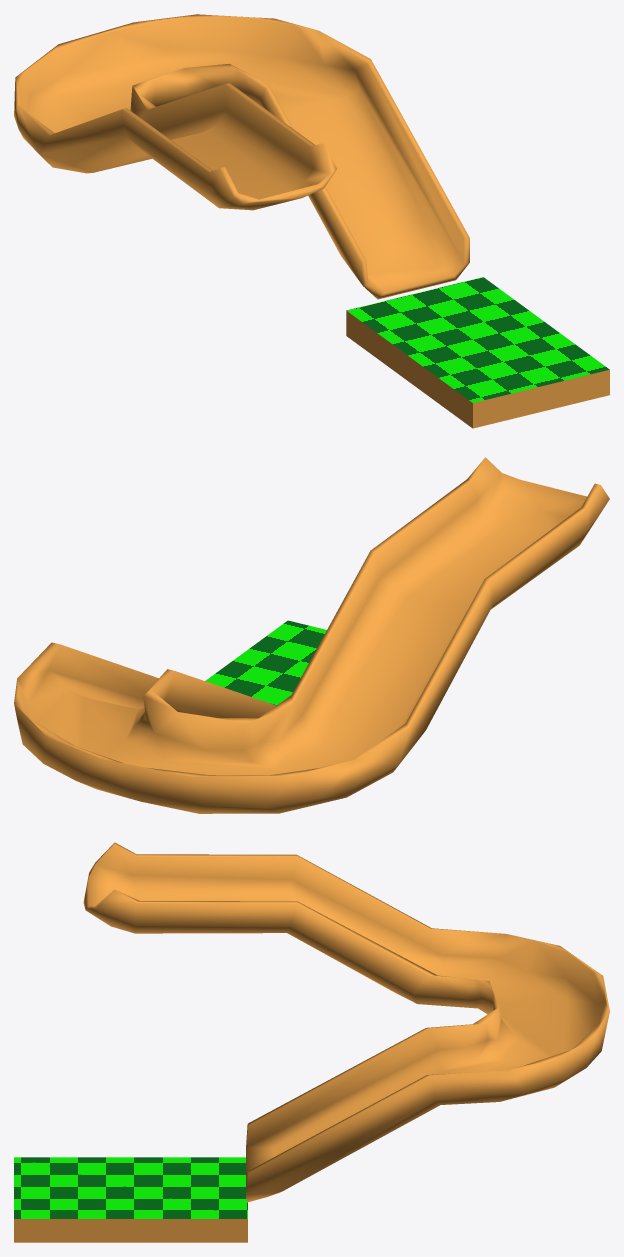
The picture shows the model from 3 angles, top to bottom: view 1: azimuth 30°, elevation 25°; view 2: azimuth 150°, elevation 25°; view 3: azimuth 270°, elevation 25°; orthographic projection. The views are drawn at different scales.
Parts seen in each view (by area): view 1: BezierCurve.001, Cube; view 2: BezierCurve.001, Cube; view 3: BezierCurve.001, Cube.
Part boxes in pixels (bbox=[...]): BezierCurve.001: bbox=[14, 14, 469, 299]; Cube: bbox=[346, 277, 609, 428]; BezierCurve.001: bbox=[14, 457, 609, 813]; Cube: bbox=[205, 620, 326, 705]; BezierCurve.001: bbox=[83, 842, 609, 1202]; Cube: bbox=[14, 1157, 247, 1242].
Bounding box in the file's own units: 27.57 × 21.11 × 45.82.
2 materials, 2 textured.
